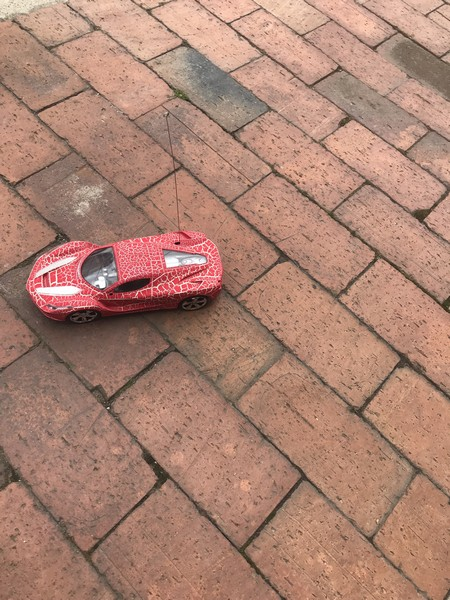RC: (24, 229, 225, 329)
